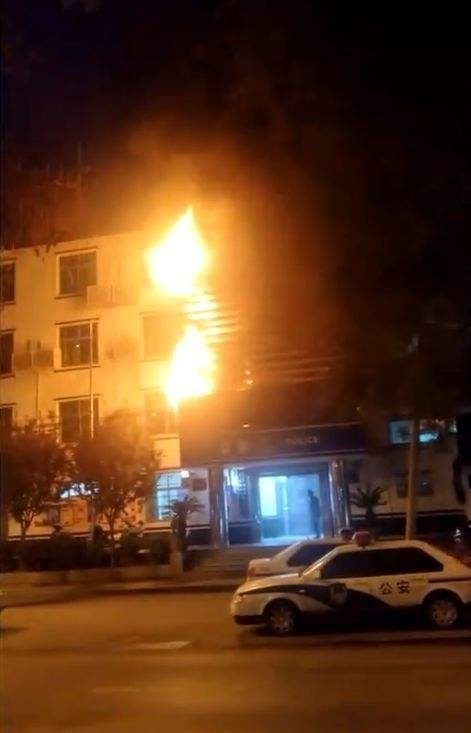fire: (143, 201, 225, 407)
